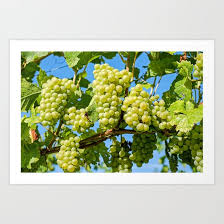grapes: (92, 59, 125, 127), (35, 76, 69, 125), (167, 128, 204, 173), (124, 83, 152, 133), (57, 131, 81, 169), (82, 138, 112, 168), (133, 130, 156, 168), (110, 137, 133, 173), (68, 106, 95, 136)
